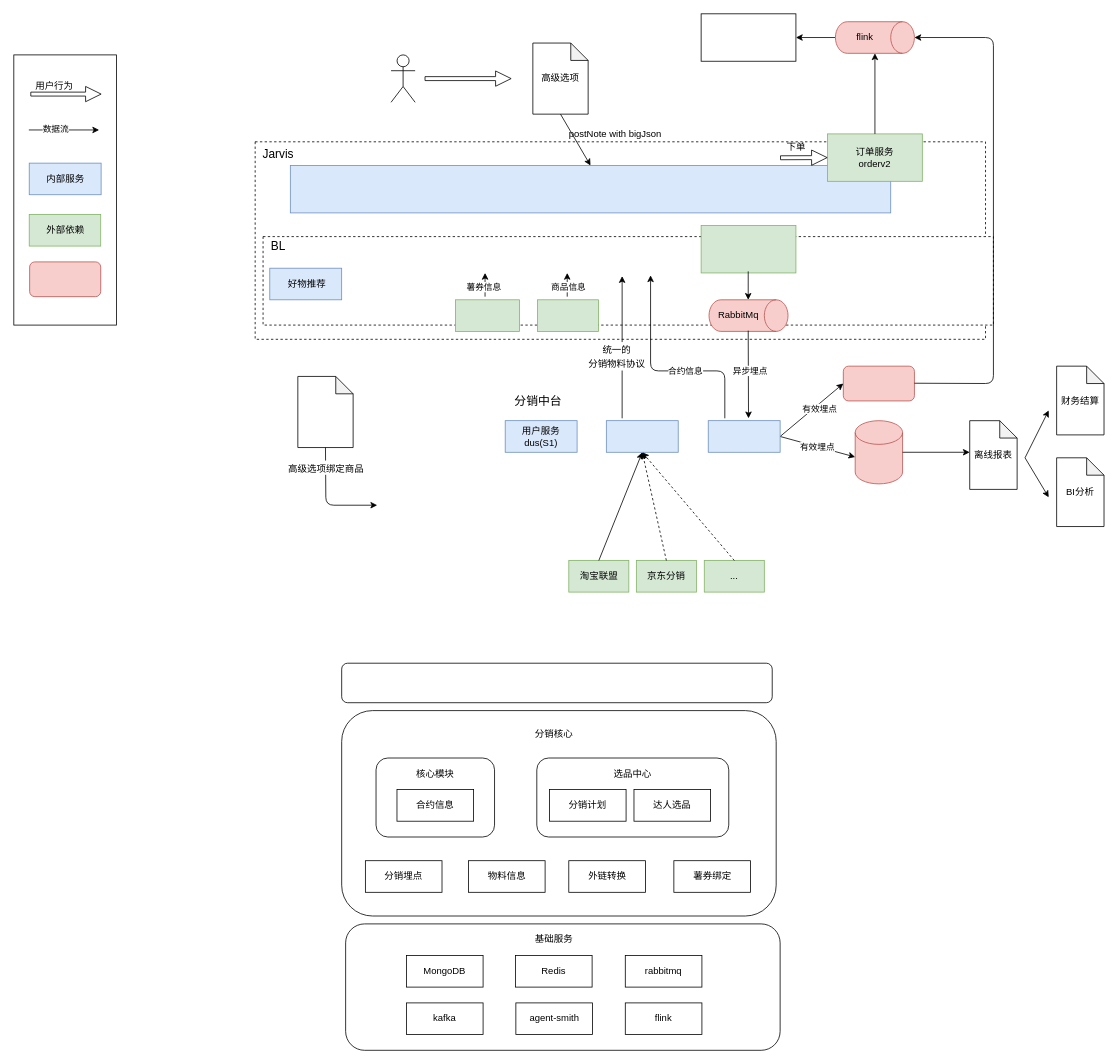
This 1118x1064 diagram has some shape labels left out. Each missing label, with the centre of its shape:
AgentSmith: point (878, 383)
gateway: point (590, 189)
中间件: point (65, 279)
商品服务 iis: point (567, 315)
商详服务 jupiter: point (748, 249)
埋点Mongo: point (878, 452)
实时数据流: point (748, 37)
核心服务dbis(S0): point (743, 436)
物料服务dms(S0): point (642, 436)
笔记: point (325, 412)
网关Hippo-sns: point (556, 682)
薯券服务 CouponCenter: point (487, 315)
观众: point (402, 78)
